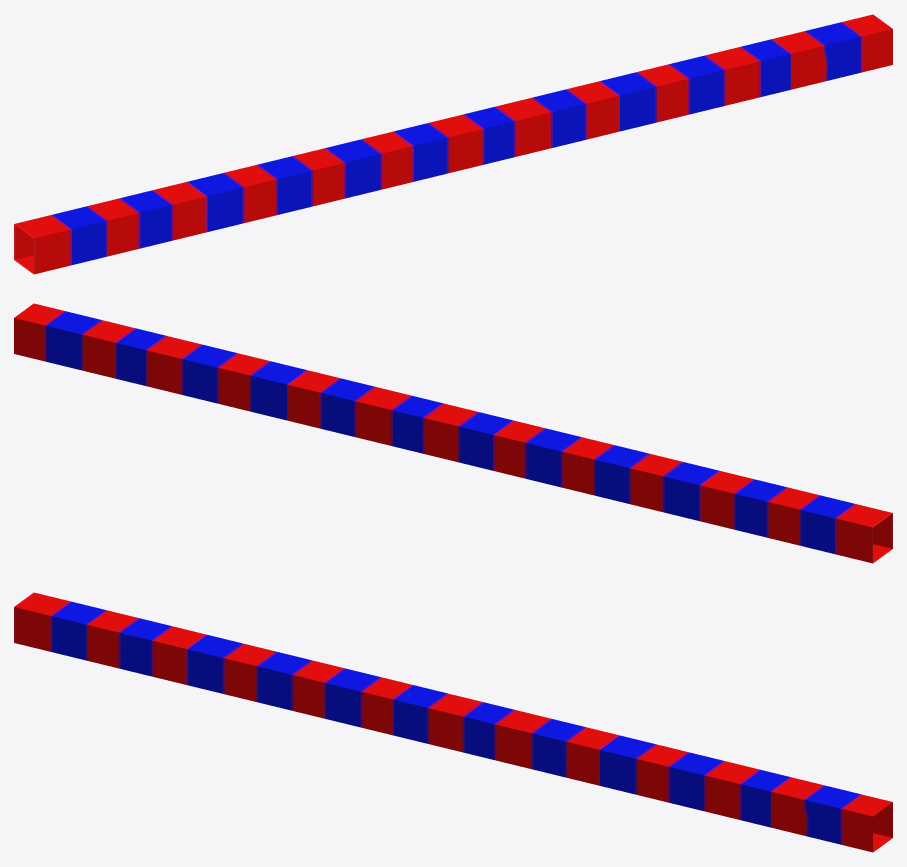
The model's file is Ref_Colour_Box.fbx.
3 views of the same model, one above another, from view 1: azimuth 30°, elevation 25°; view 2: azimuth 150°, elevation 25°; view 3: azimuth 330°, elevation 25° (orthographic).
Parts seen in each view (by area): view 1: pCube2; view 2: pCube2; view 3: pCube2.
Boxes of the visible parts, x1,y1,x2,y2 form: pCube2: (14,14,892,274); pCube2: (14,303,892,563); pCube2: (14,592,892,852).
Bounding box in the file's own units: 2500 × 100 × 100.
1 material, 1 textured.
